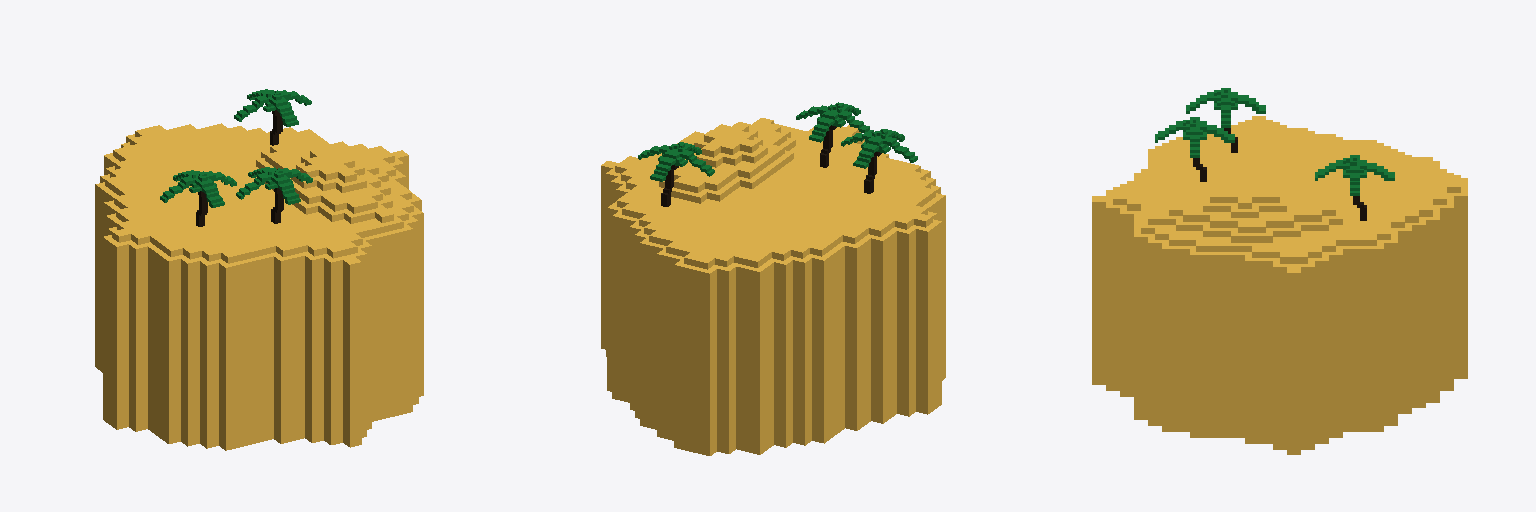
The picture shows the model from 3 angles: view 1: azimuth 30°, elevation 25°; view 2: azimuth 150°, elevation 25°; view 3: azimuth 270°, elevation 25°; orthographic projection.
Parts seen in each view (by area): view 1: Island-Sandy; view 2: Island-Sandy; view 3: Island-Sandy.
Part boxes in pixels (x1,y1,x2,y2): Island-Sandy: (95, 89, 423, 450); Island-Sandy: (601, 102, 945, 455); Island-Sandy: (1092, 88, 1467, 454).
Size of the model in its own units: 104 by 78 by 108.
1 materials, 1 textured.